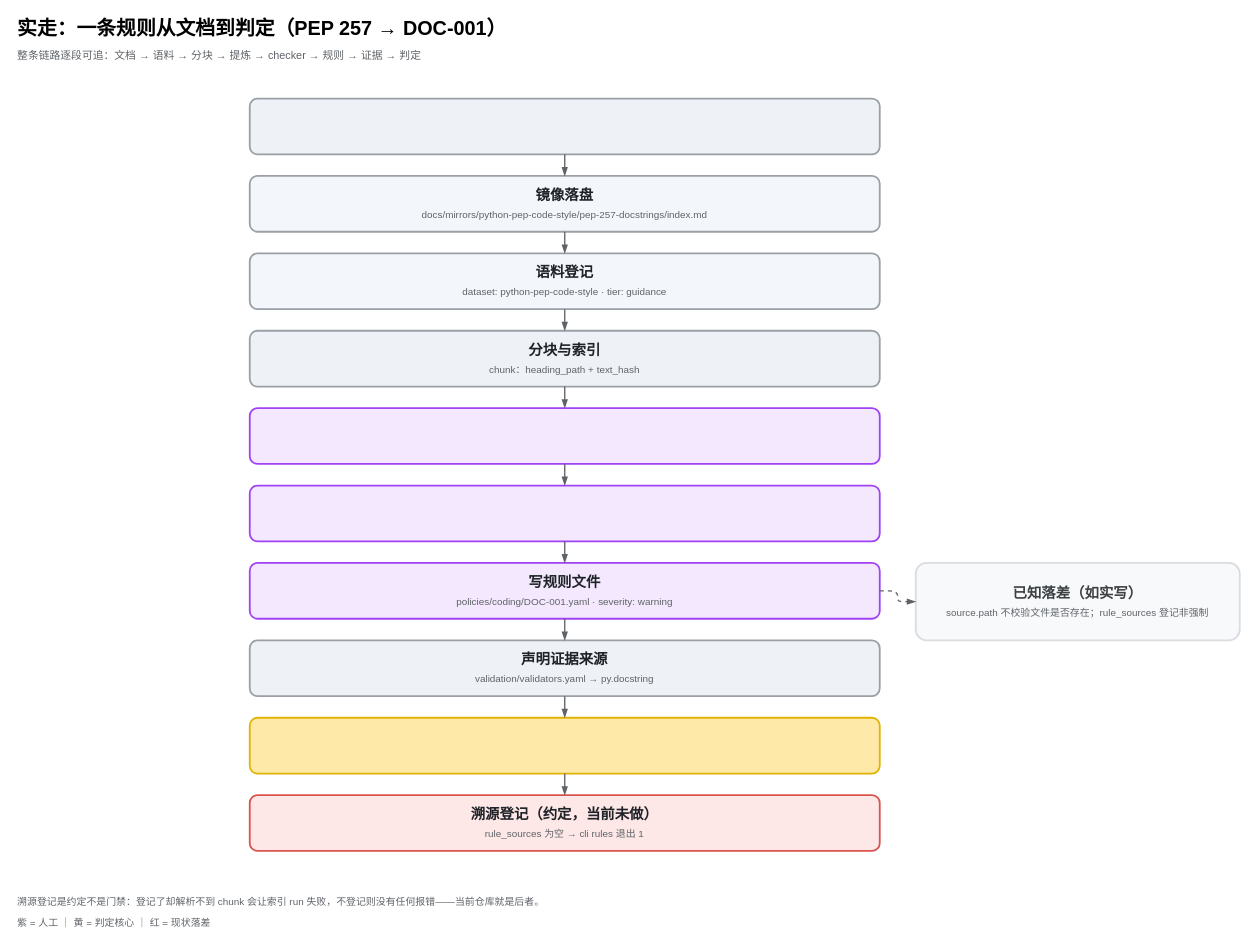
This 1256x947 diagram has some shape labels left out. Each missing label, with the centre of its shape:
"上游官方文档 PEP 257（public domain）" belongs at point (564, 126).
"判定 证据 rule_id == DOC-001 → allow_with_warnings" belongs at point (564, 745).
"提炼判据 「公开对象必须有 docstring」= 可判定" belongs at point (564, 435).
"选 checker missing_docstring（已知 6 个之一）" belongs at point (564, 513).
